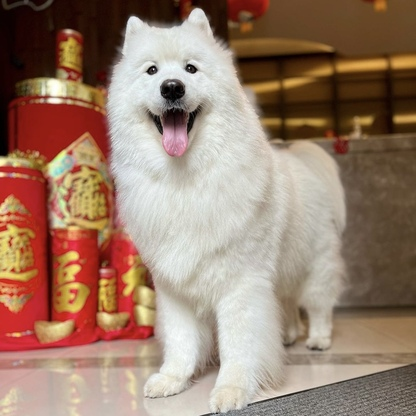samoyed: (100, 6, 359, 416)
